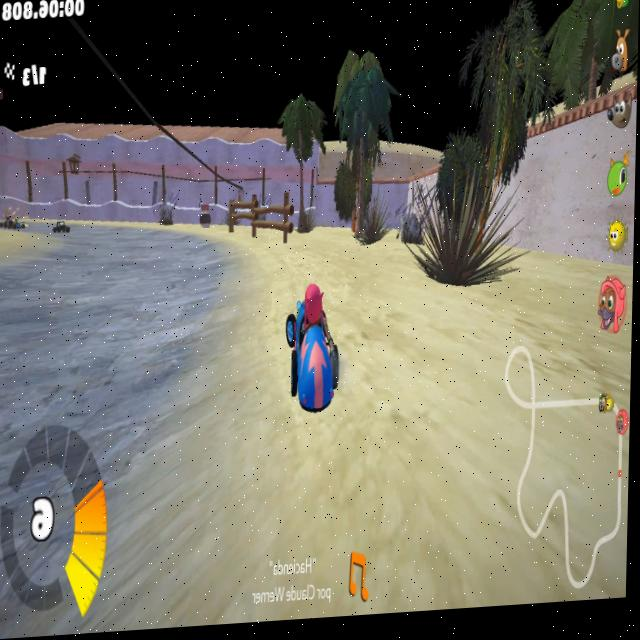enemy_kart: (0, 210, 34, 232), (52, 221, 66, 236)
player_kart: (285, 268, 341, 416)
track: (0, 223, 158, 640), (149, 386, 217, 629), (151, 236, 212, 391), (208, 244, 229, 386), (158, 227, 183, 247)
